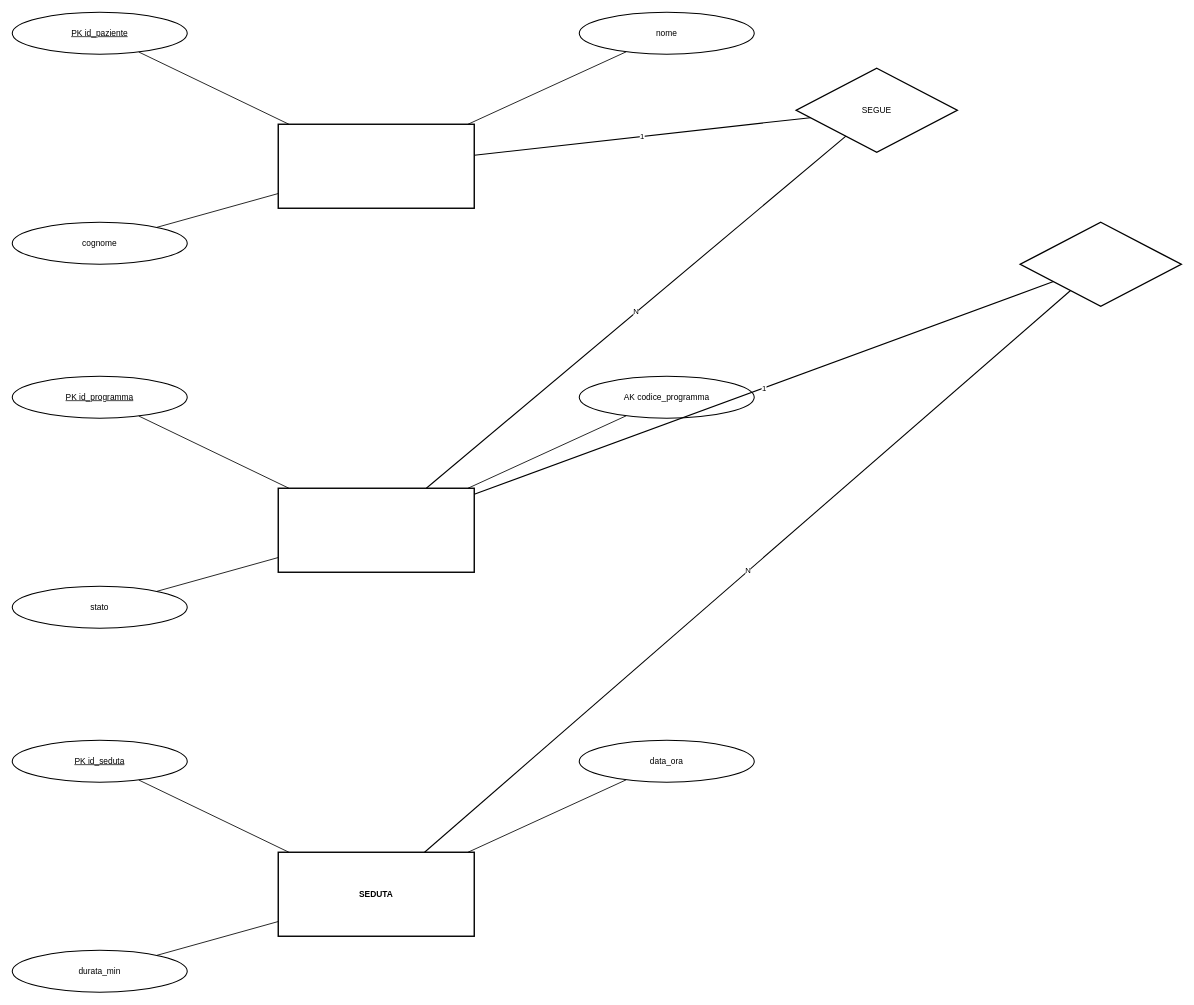
Some shapes in this 1194 by 1005 pixel diagram are drawn without their labels. Each missing label, with the centre of its shape:
"INCLUDE" belongs at (1100,264).
"PAZIENTE" belongs at (376,166).
"PROGRAMMA" belongs at (376,530).
